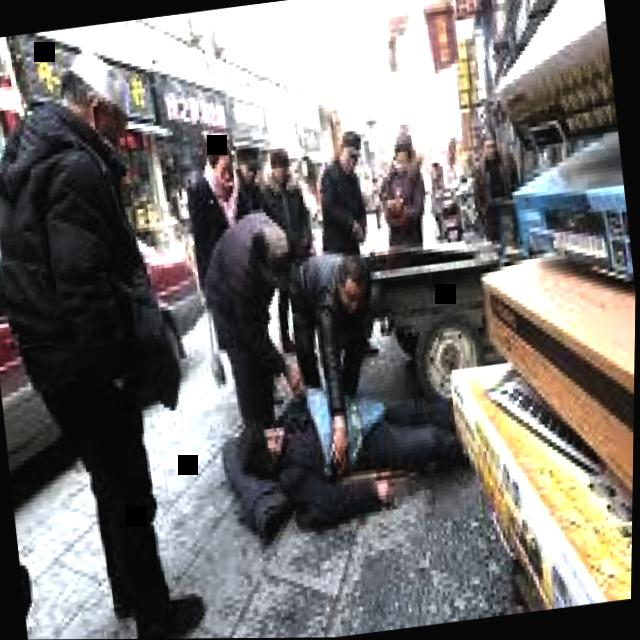Fall-Detected: (198, 346, 480, 544)
